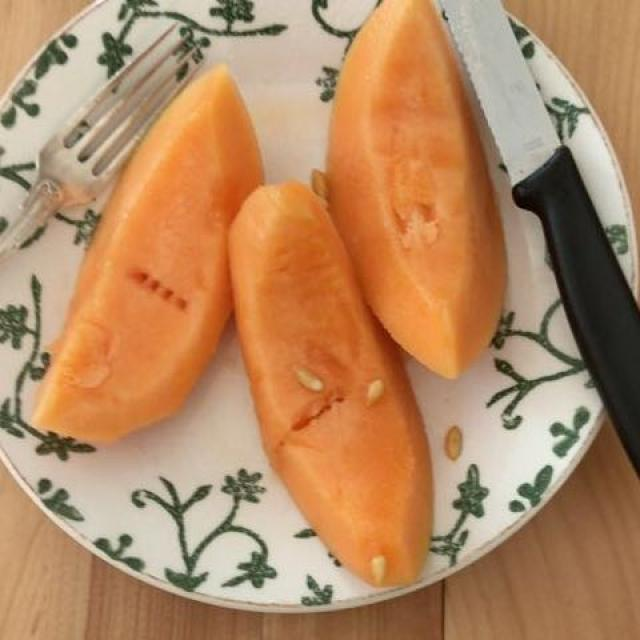melon: (49, 11, 526, 542)
